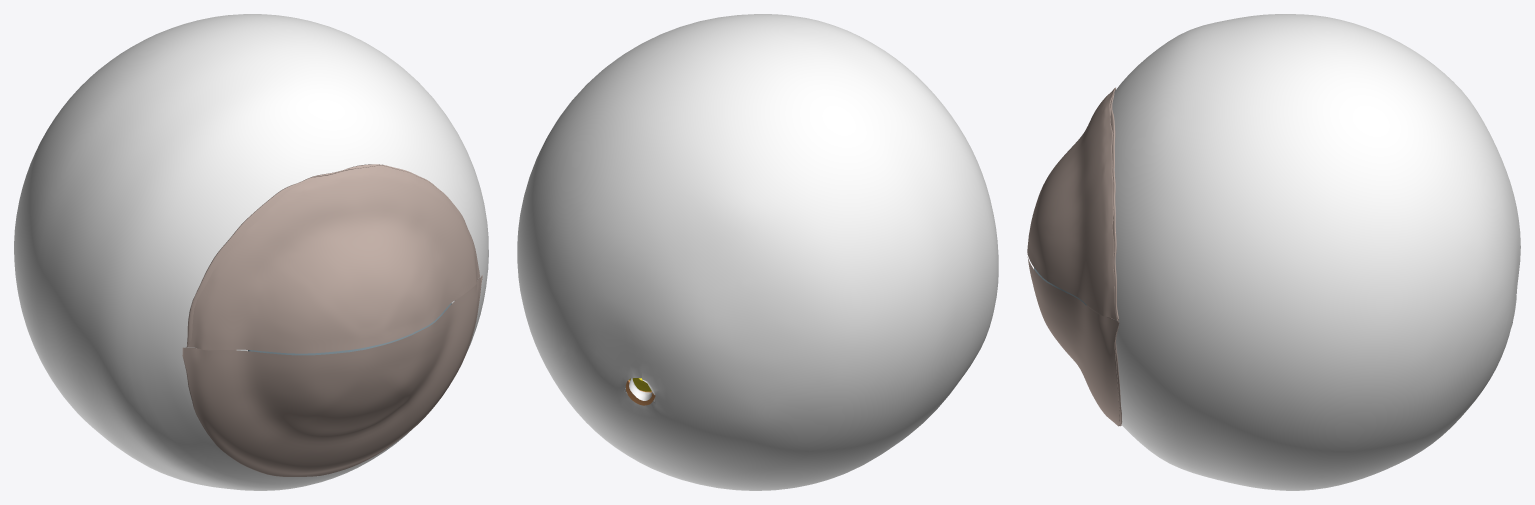
Rendered from VH_F_Eye_L.glb.
3 views of the same model, side by side, from view 1: azimuth 30°, elevation 25°; view 2: azimuth 150°, elevation 25°; view 3: azimuth 270°, elevation 25° (orthographic).
Visible parts, largest first — view 1: VH_F_sclera_L, VH_F_palpebral_conjunctiva_of_left_upper_eyelid, VH_F_palpebral_conjunctiva_of_left_lower_eyelid, VH_F_bulbar_conjunctiva_L; view 2: VH_F_sclera_L; view 3: VH_F_sclera_L, VH_F_palpebral_conjunctiva_of_left_upper_eyelid, VH_F_palpebral_conjunctiva_of_left_lower_eyelid, VH_F_bulbar_conjunctiva_L.
Boxes of the visible parts, bbox=[...] form: VH_F_sclera_L: bbox=[14, 14, 488, 490]; VH_F_palpebral_conjunctiva_of_left_upper_eyelid: bbox=[186, 165, 479, 353]; VH_F_palpebral_conjunctiva_of_left_lower_eyelid: bbox=[182, 275, 482, 476]; VH_F_bulbar_conjunctiva_L: bbox=[185, 164, 479, 350]; VH_F_sclera_L: bbox=[517, 14, 998, 490]; VH_F_sclera_L: bbox=[1112, 14, 1520, 490]; VH_F_palpebral_conjunctiva_of_left_upper_eyelid: bbox=[1027, 90, 1118, 320]; VH_F_palpebral_conjunctiva_of_left_lower_eyelid: bbox=[1027, 257, 1120, 426]; VH_F_bulbar_conjunctiva_L: bbox=[1086, 87, 1122, 426].
Size of the model in its own units: 0.0245 by 0.0245 by 0.0254.
